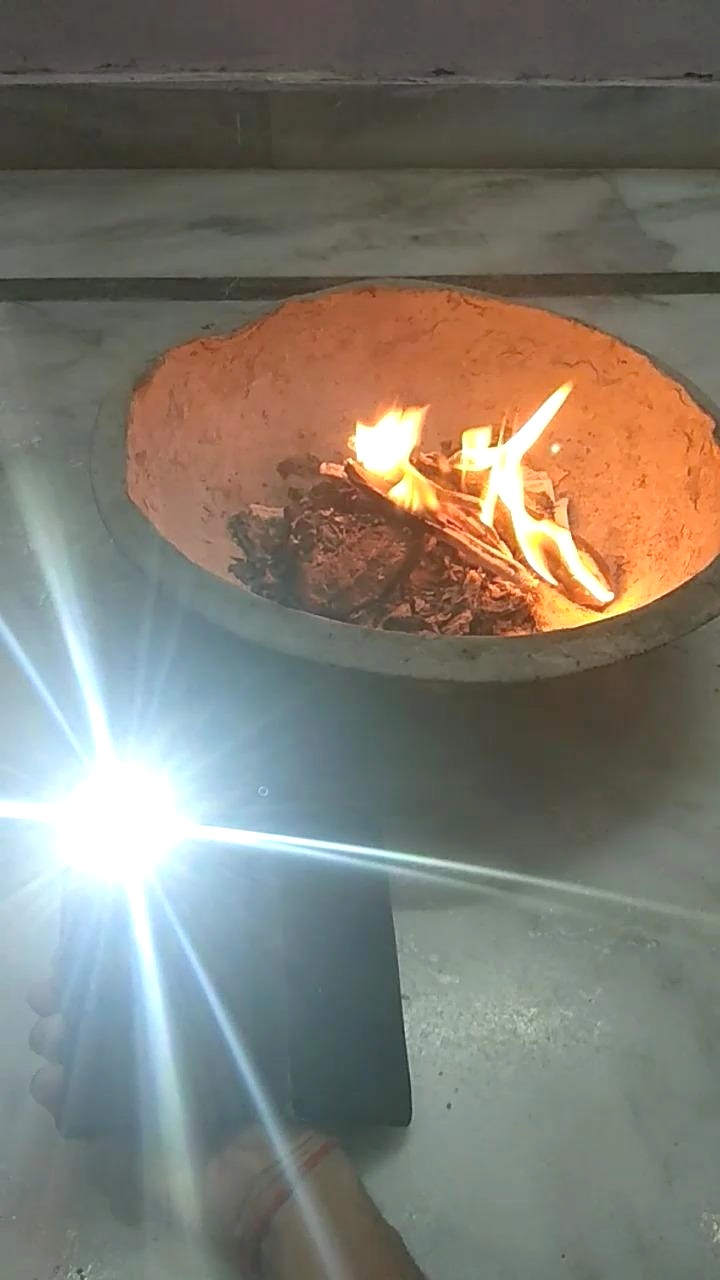fire: (347, 374, 600, 564)
